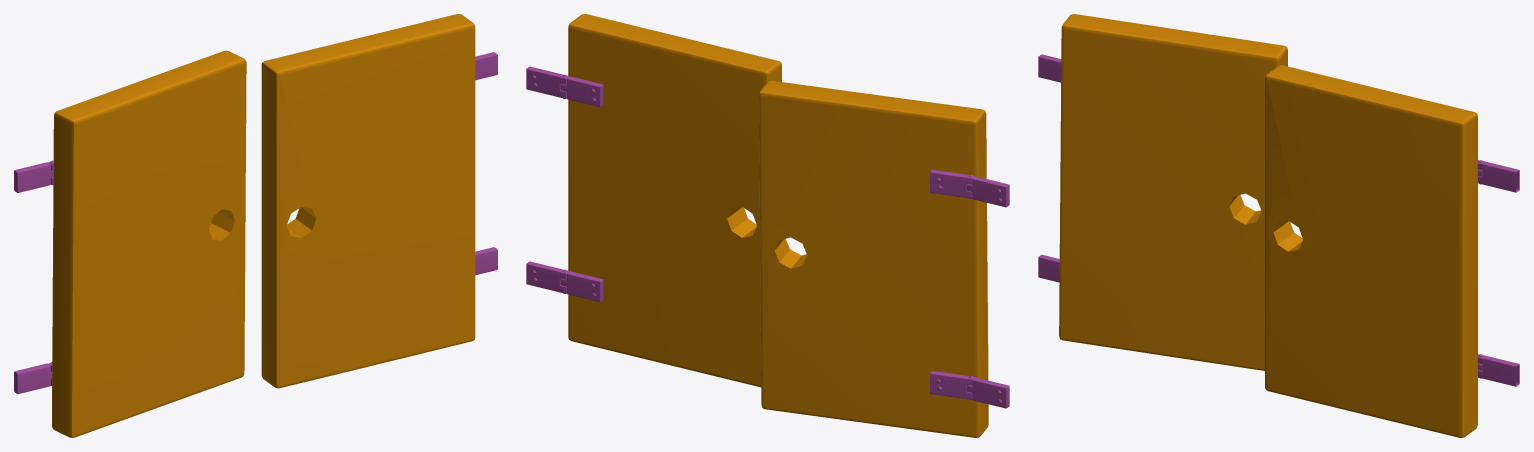
Rendered from SM_bar_cabinet_R.fbx.
3 renders of one model, left to right at view 1: azimuth 30°, elevation 25°; view 2: azimuth 150°, elevation 25°; view 3: azimuth 330°, elevation 25°, orthographic.
Parts seen in each view (by area): view 1: SM_bar_cabinet; view 2: SM_bar_cabinet; view 3: SM_bar_cabinet.
Part boxes in pixels (<box>): SM_bar_cabinet: <box>14,14,497,437</box>; SM_bar_cabinet: <box>526,14,1009,437</box>; SM_bar_cabinet: <box>1038,14,1519,437</box>.
Bounding box in the file's own units: 1.23 × 0.7857 × 0.1695.
